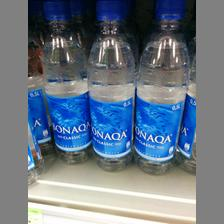Wasser: (134, 0, 190, 174), (38, 0, 89, 164), (86, 1, 134, 172)
